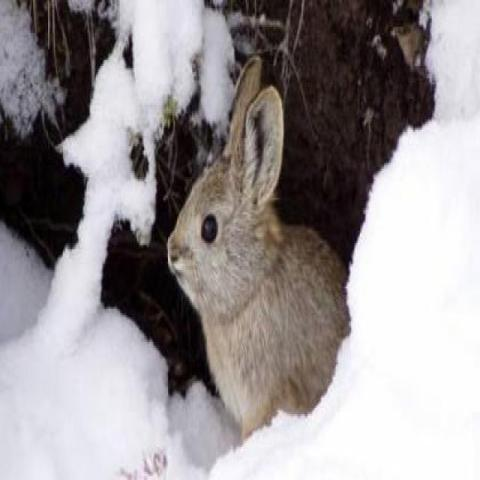small_animal: (163, 54, 351, 440)
